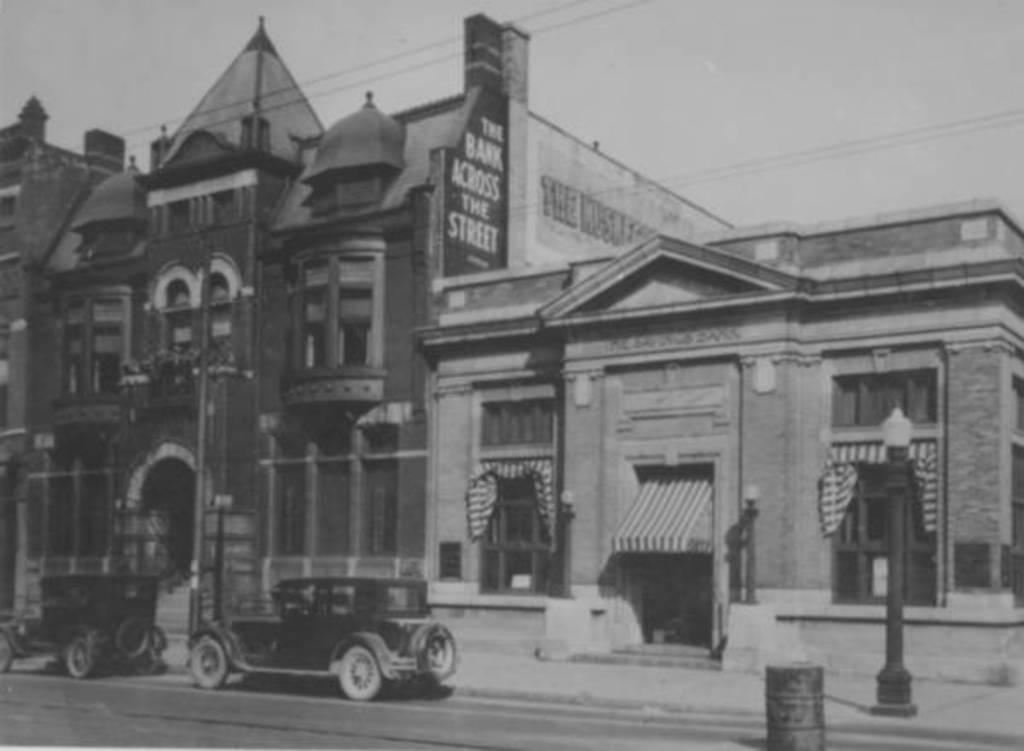Car: (181, 579, 456, 698), (0, 572, 169, 676)
